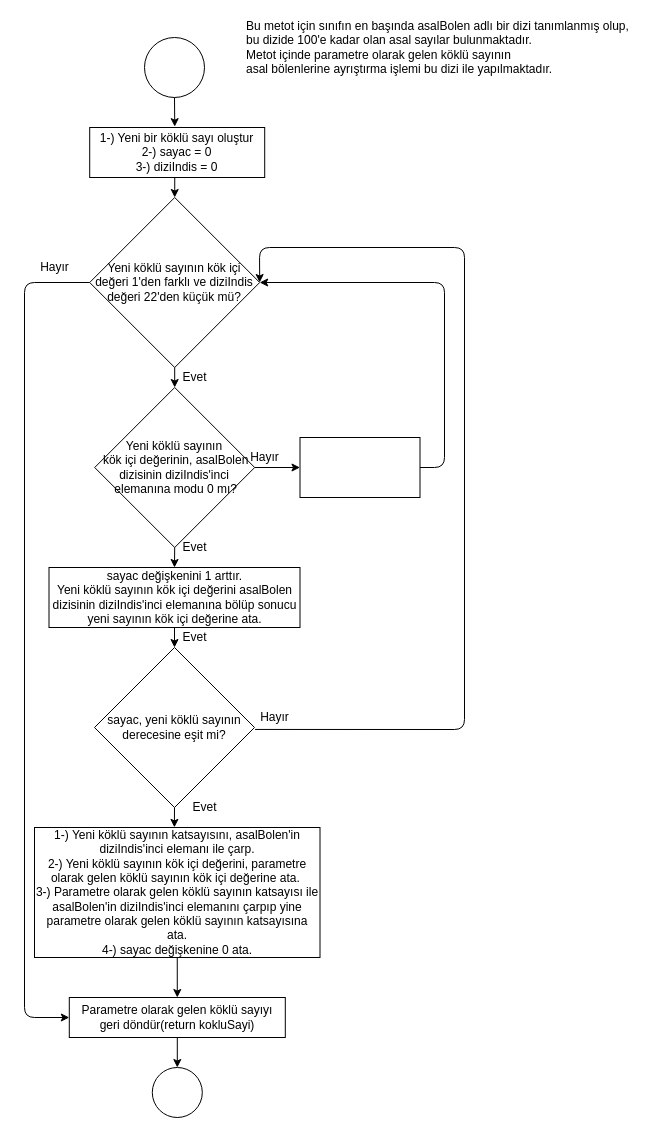
Some shapes in this 662 by 1135 pixel diagram are drawn without their labels. Here are the shapes that lost their labels. From the top down, the centre of each, then its label:
(174,67): Başla
(359,467): 1-) sayac = 0 2-) diziIndis++
(176,1092): Bitir
